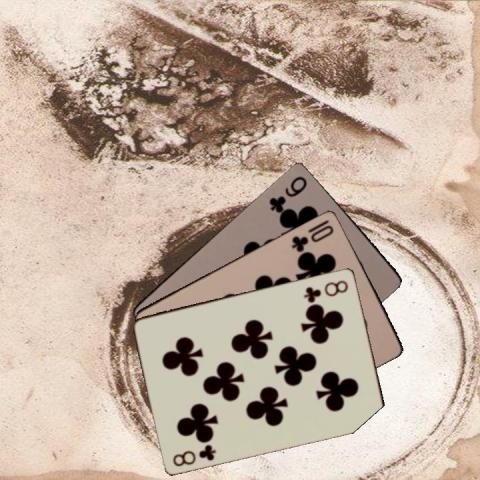10c: (289, 217, 335, 253)
8c: (301, 276, 350, 302), (170, 441, 218, 467)
9c: (266, 172, 309, 212)
